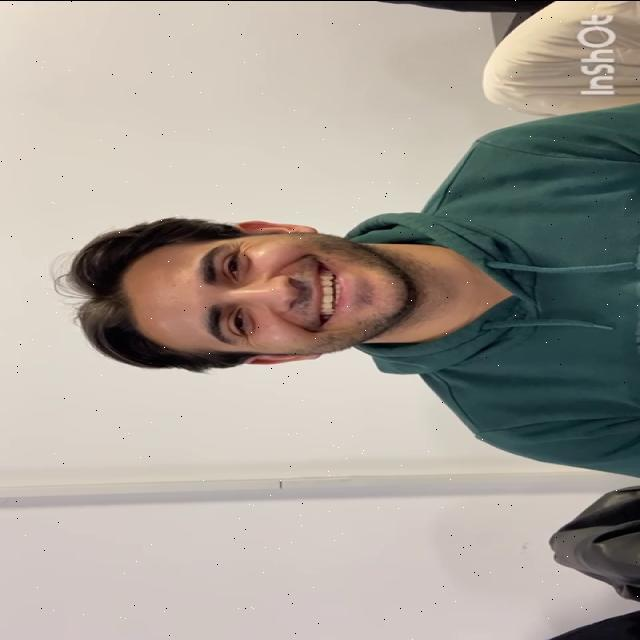happy: (125, 233, 420, 354)
